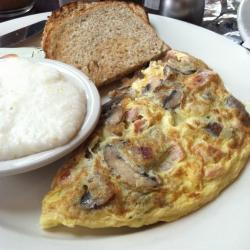bread: (44, 2, 168, 81)
omelette: (65, 51, 244, 235)
